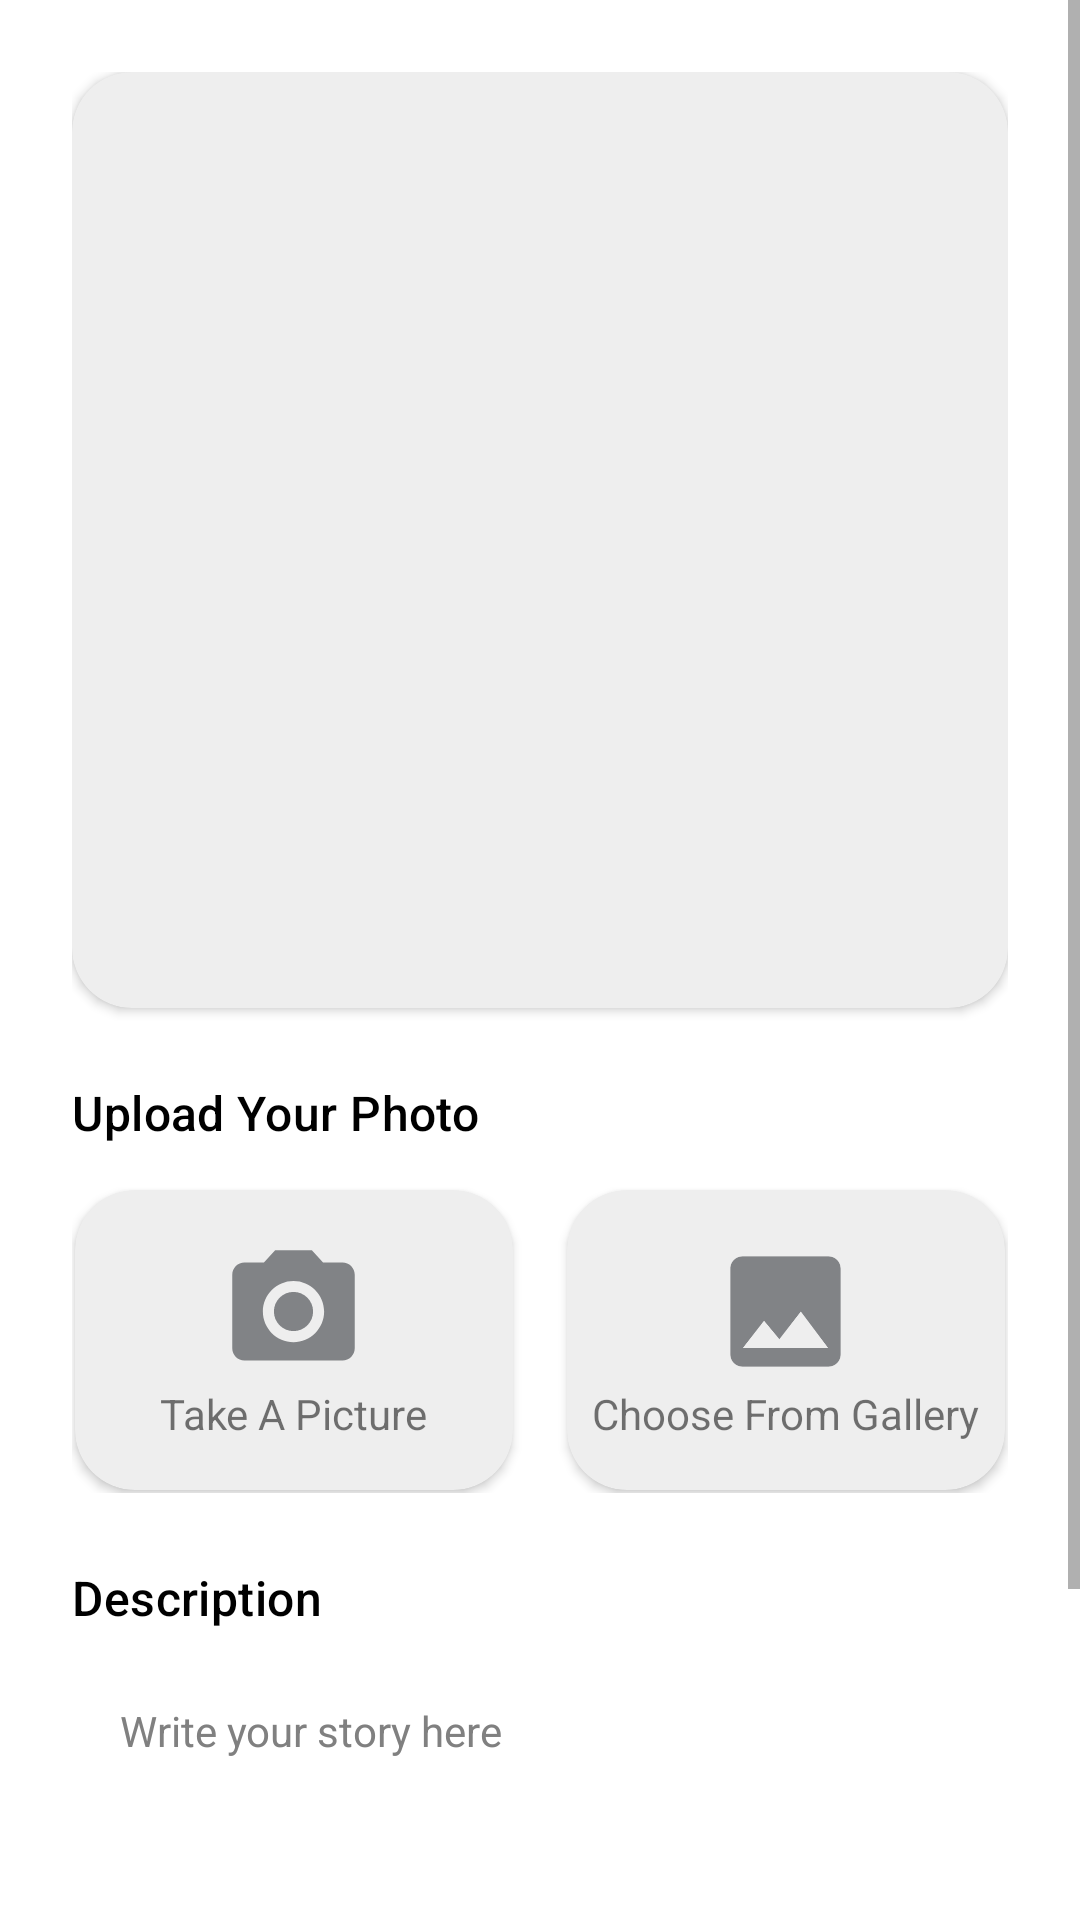

Locate icon controls on the screen. Image size 1080px x 1920px, boxes as [x1=x1, y1=y1, x2=x2, y2=y2].
Icon for camera: [x1=232, y1=1250, x2=355, y2=1361]
